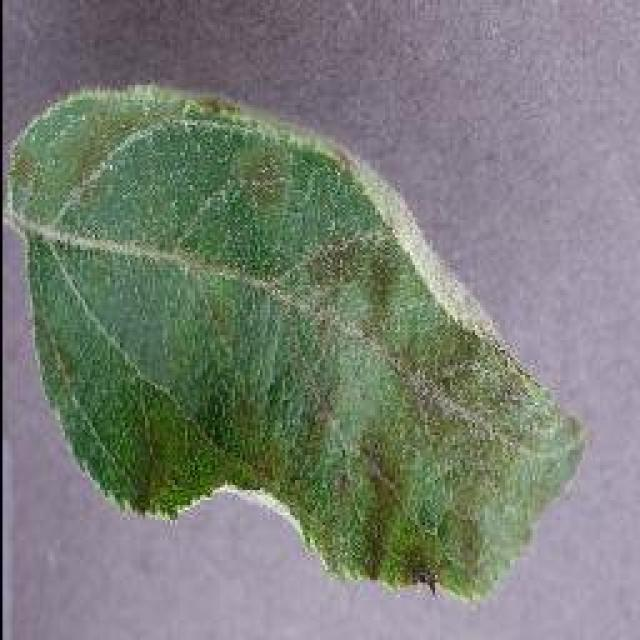apple scab disease: (2, 80, 590, 602)
